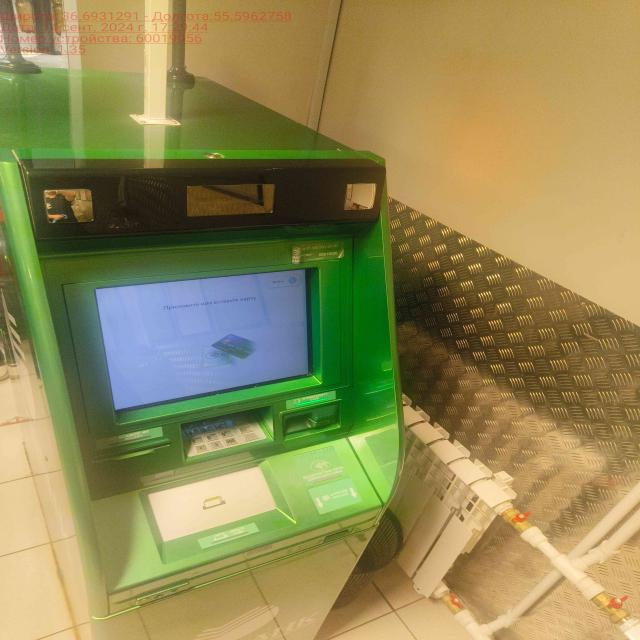bank: (0, 68, 409, 640)
